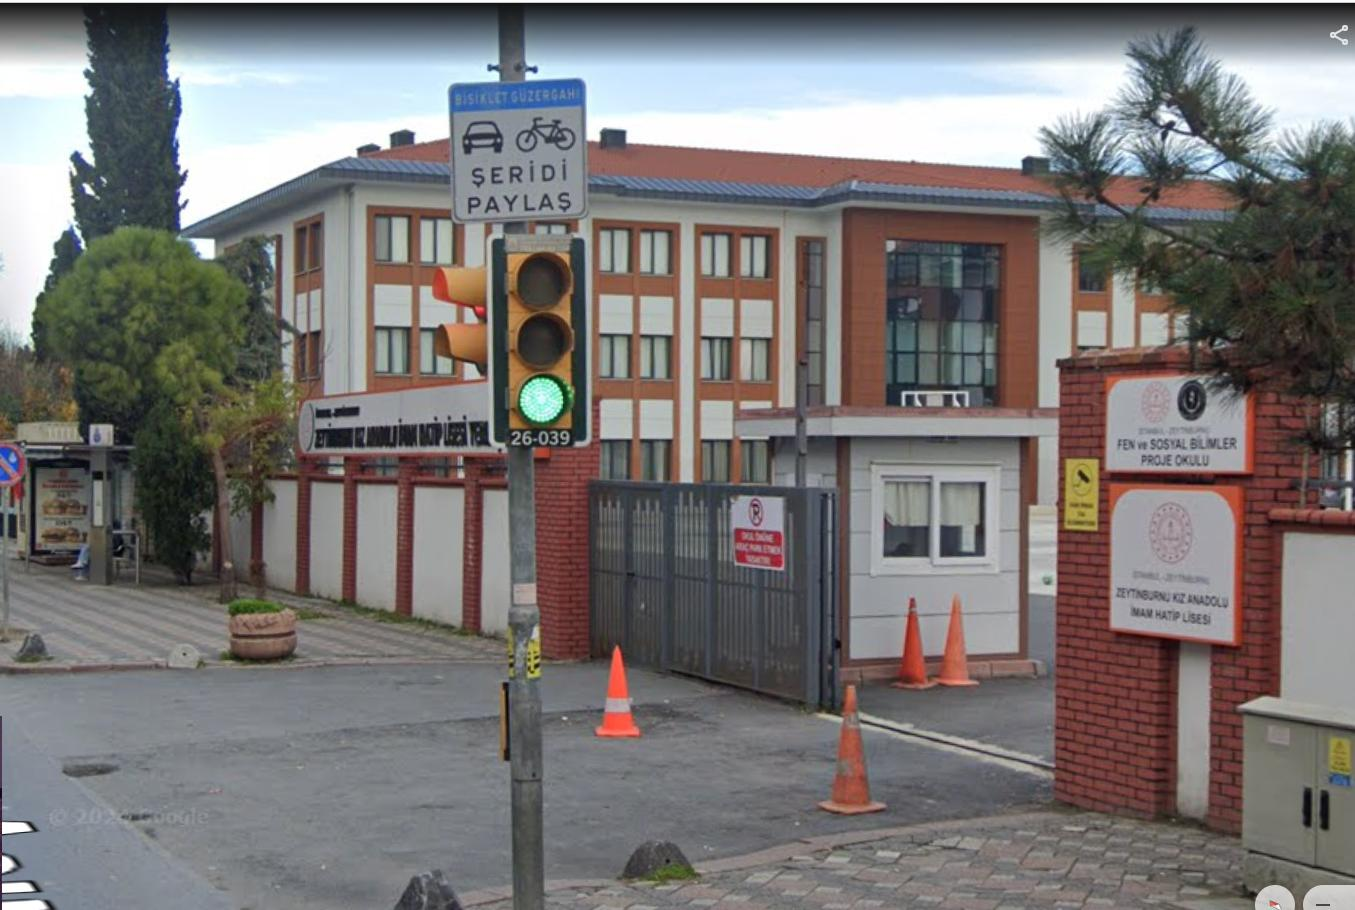greenlight: (499, 249, 576, 426)
